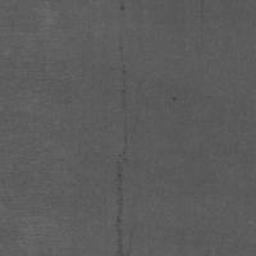Inclusion: (116, 151, 125, 256)
